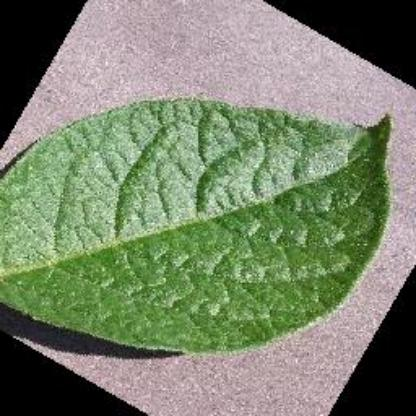Healthy-plant: (15, 84, 403, 358)
